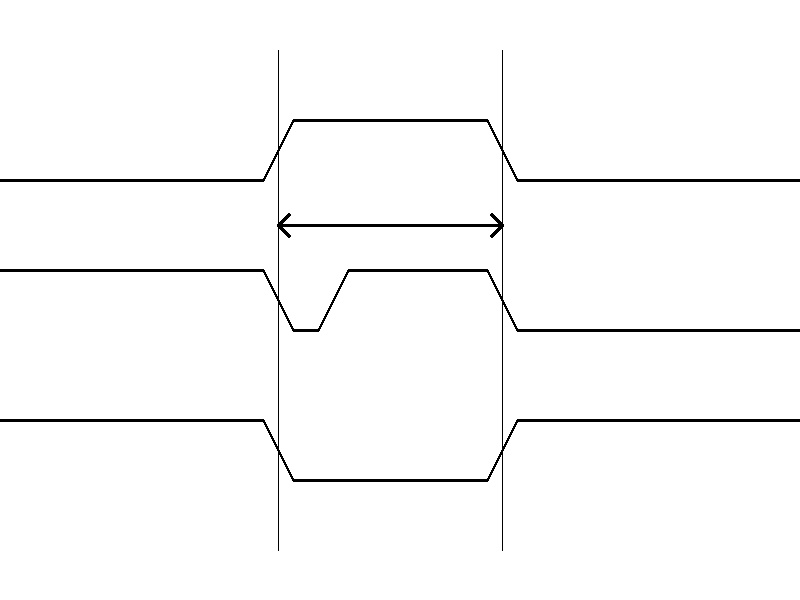double_arrow: (278, 210, 502, 240)
